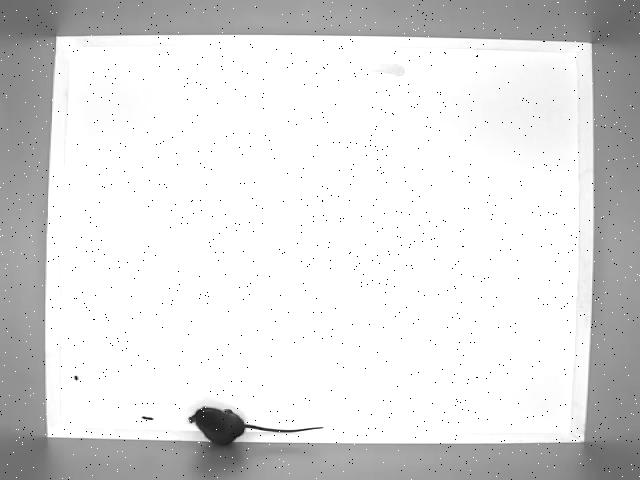Tikus: (188, 404, 324, 444)
